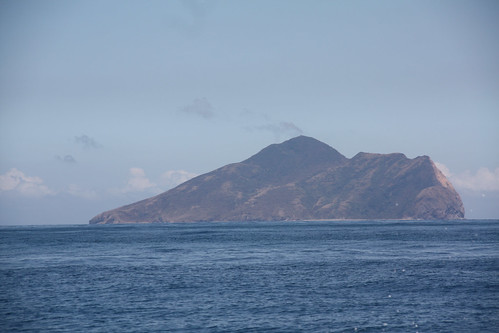turtleIsland: (84, 134, 467, 221)
